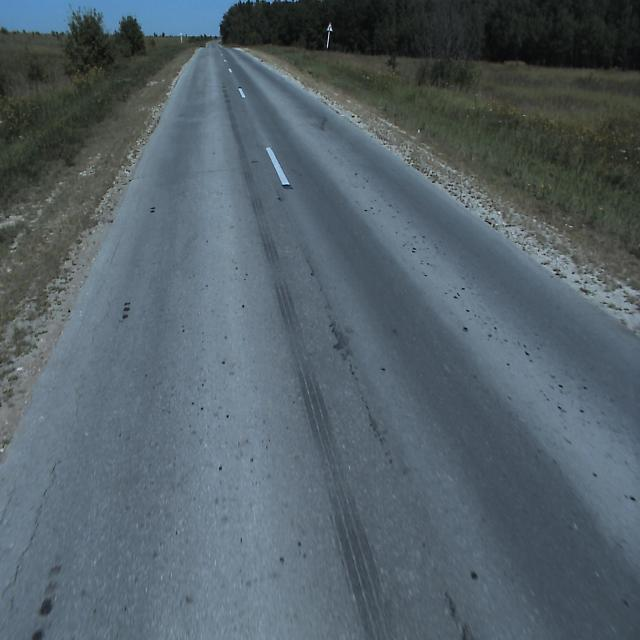road: (0, 40, 640, 639)
